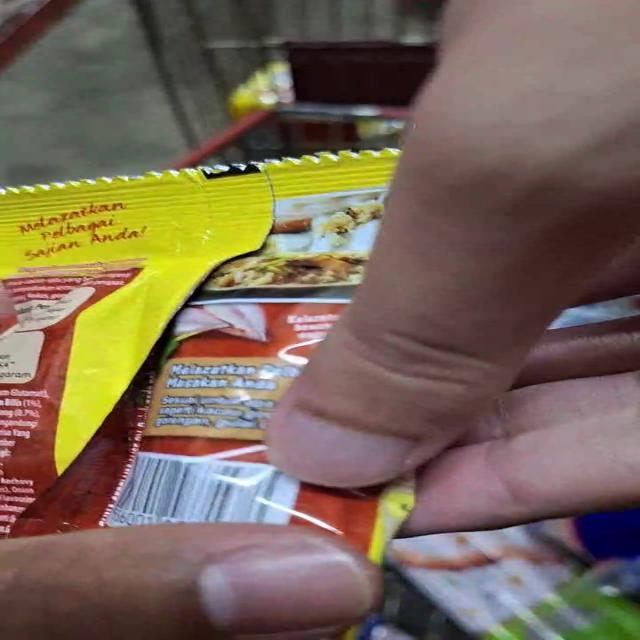Maggi Cukup Rasa: (0, 370, 447, 609), (0, 172, 444, 408)
